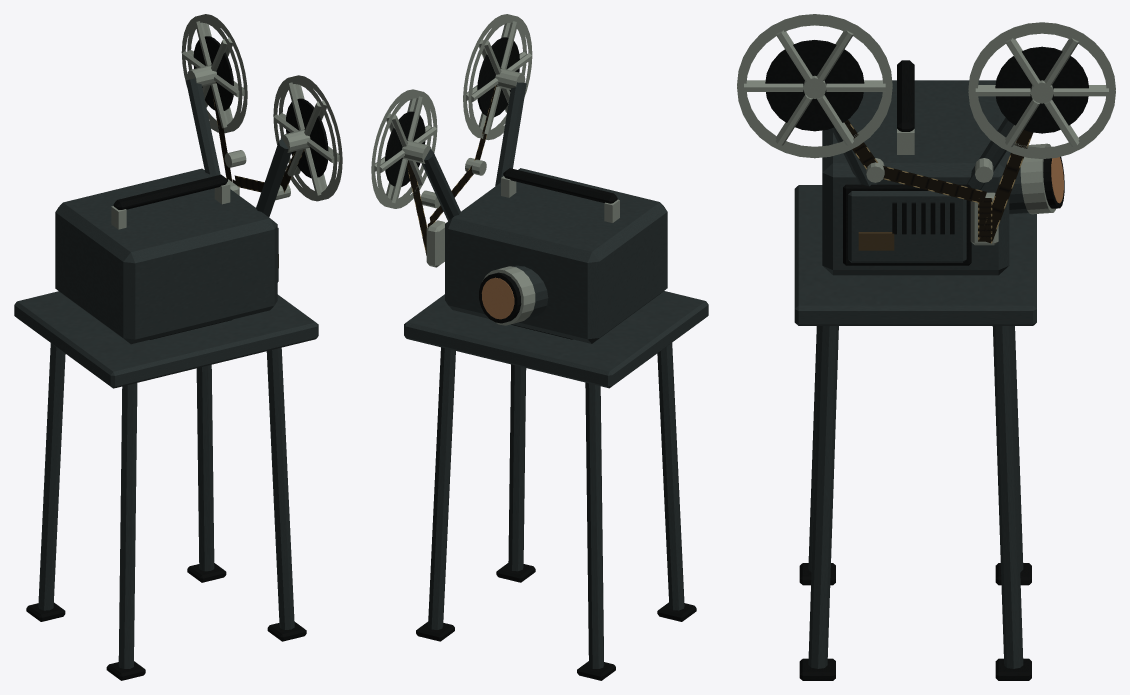
Rendered from projector-r1.glb.
3 renders of one model, left to right at view 1: azimuth 30°, elevation 25°; view 2: azimuth 150°, elevation 25°; view 3: azimuth 270°, elevation 25°, orthographic. The views are drawn at different scales.
Parts seen in each view (by area): view 1: Projector housing and threaded film, Feed reel, Takeup reel; view 2: Projector housing and threaded film, Feed reel, Takeup reel; view 3: Projector housing and threaded film, Feed reel, Takeup reel.
Part boxes in pixels (left/top/right/bottom): Projector housing and threaded film: left=14, top=78, right=318, bottom=680; Feed reel: left=273, top=75, right=342, bottom=201; Takeup reel: left=181, top=14, right=247, bottom=133; Projector housing and threaded film: left=404, top=82, right=708, bottom=680; Feed reel: left=463, top=14, right=532, bottom=140; Takeup reel: left=371, top=89, right=437, bottom=208; Projector housing and threaded film: left=794, top=60, right=1064, bottom=680; Feed reel: left=737, top=14, right=892, bottom=158; Takeup reel: left=968, top=22, right=1115, bottom=158.
Size of the model in its own units: 0.5838 by 1.46 by 0.75.
1 material, 1 textured.
